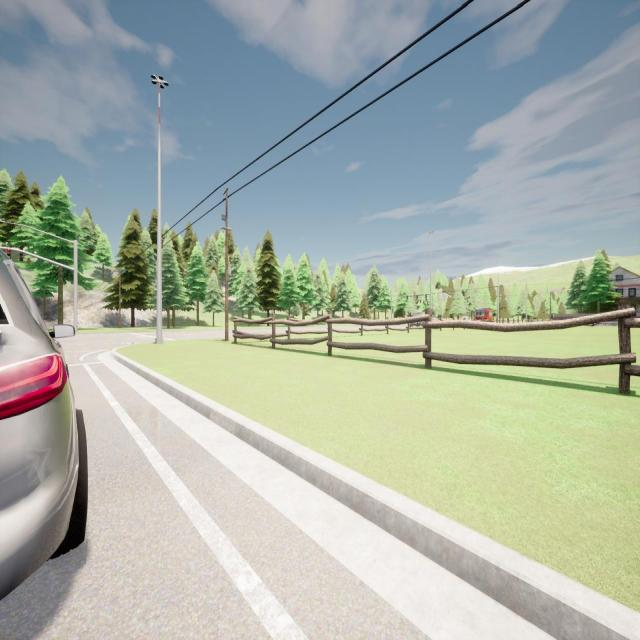Vehicle: (0, 251, 87, 598), (408, 312, 426, 327), (475, 308, 493, 321)
traffic_light: (7, 248, 11, 258)
